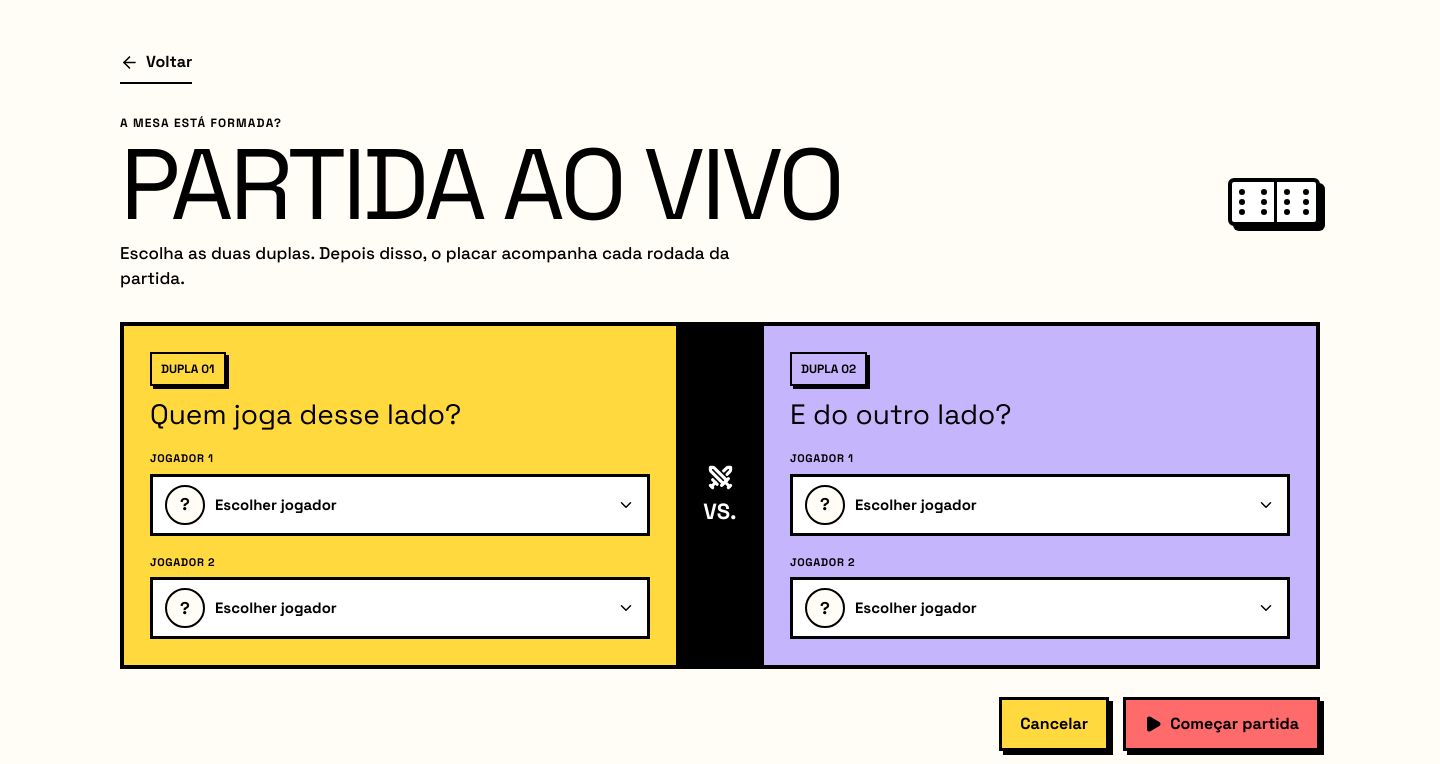
Test: LiveGameSetup › não inicia se os quatro jogadores não estiverem preenchidos
Click the 1st button "? Escolher jogador" at (185, 505), box [150,474,650,536]
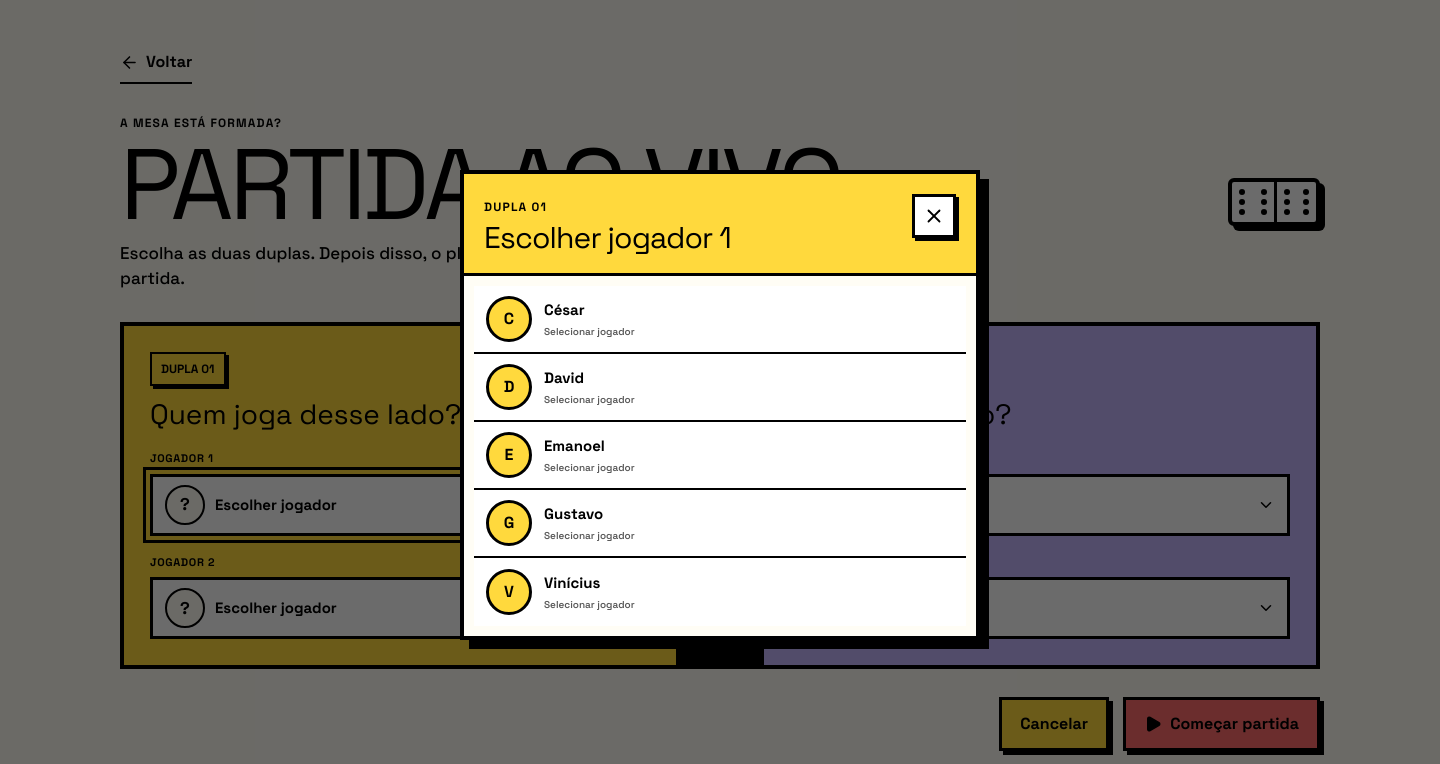
Click the button "C César Selecionar jogador" at (509, 319), box [474,286,966,354]
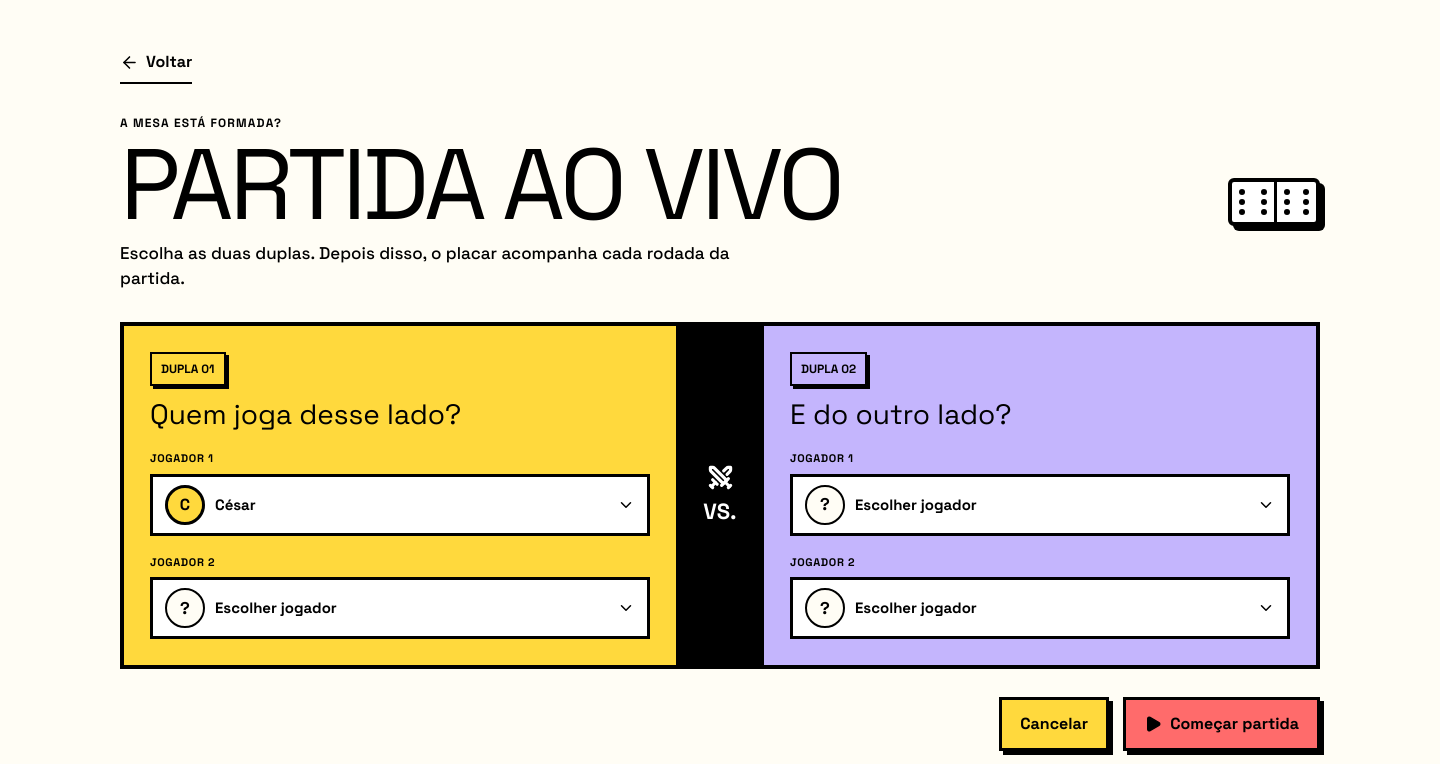
Click the button "Começar partida" at (1222, 724), box [1123,697,1320,751]
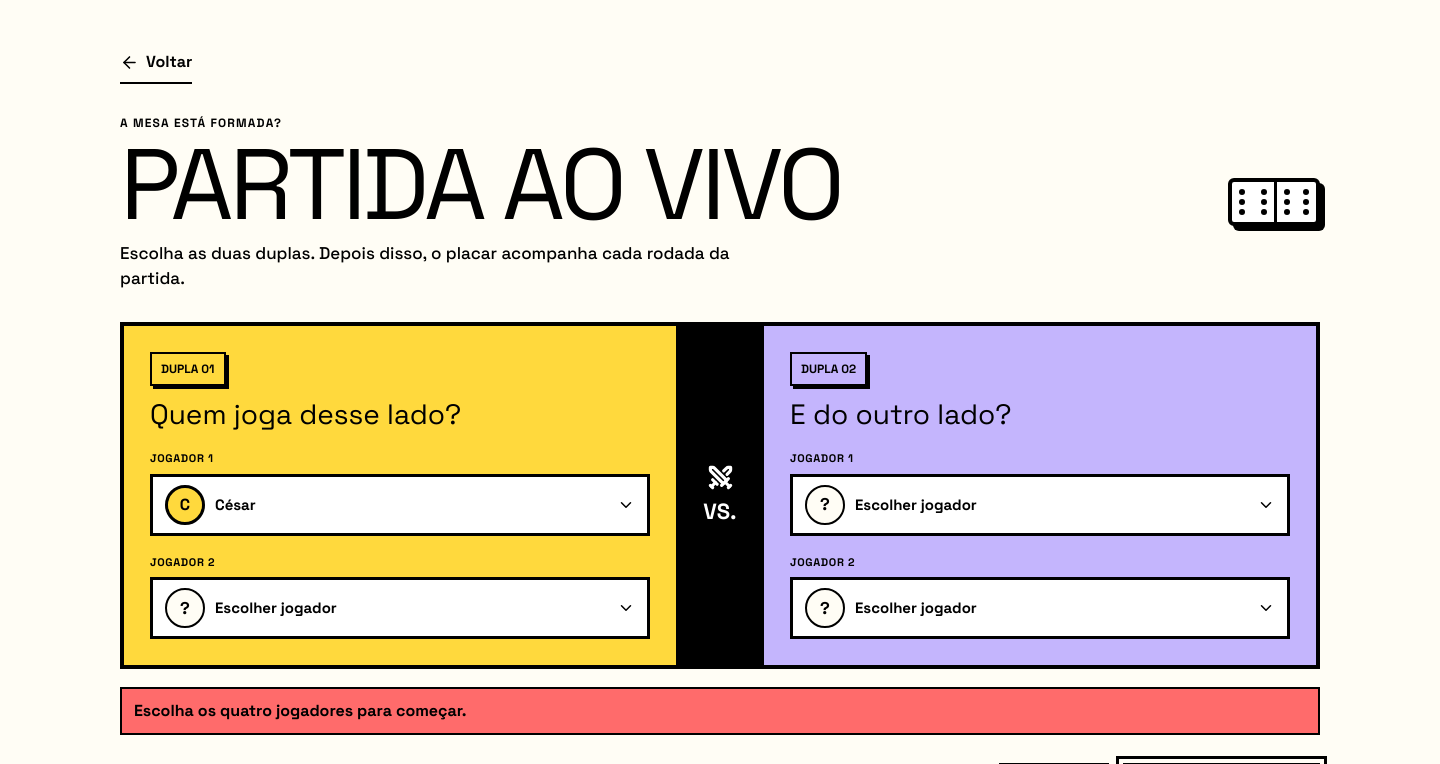
Check: the message reads "Escolha os quatro jogadores para começar.", box [134,700,466,721]
